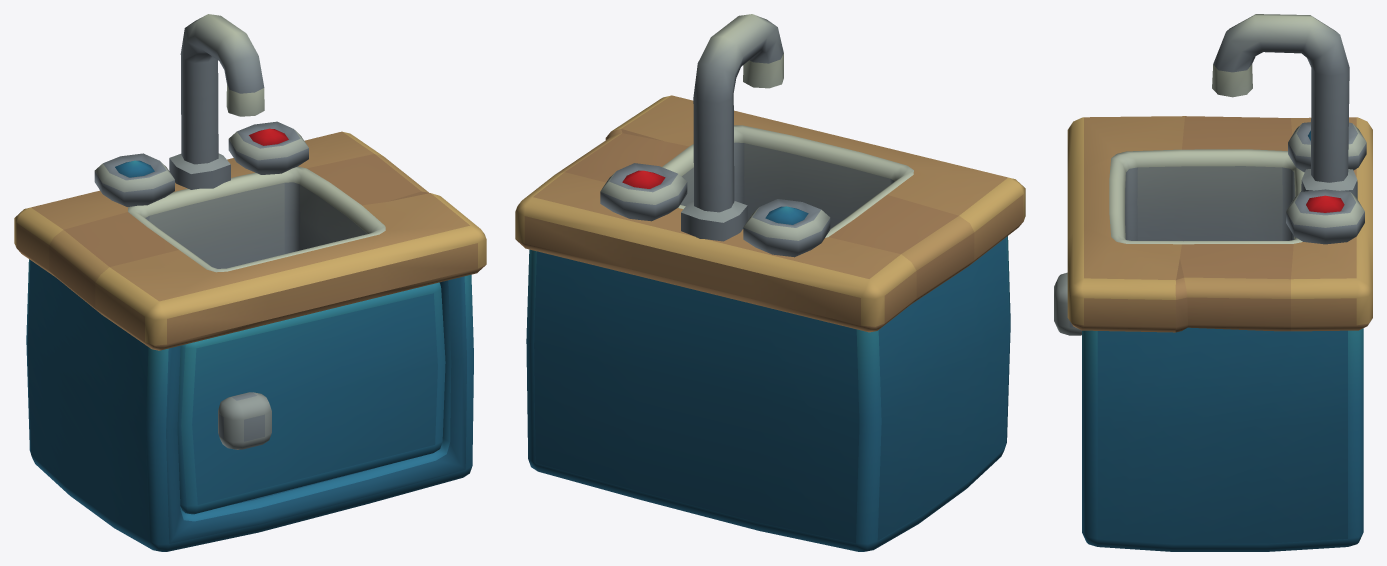
File: kitchen_counter_sink_LOD_setup.fbx
The picture shows the model from 3 angles, left to right: view 1: azimuth 30°, elevation 25°; view 2: azimuth 150°, elevation 25°; view 3: azimuth 270°, elevation 25°; orthographic projection. The views are drawn at different scales.
Visible parts, largest first — view 1: kitchen_counter_sink_LOD0, kitchen_counter_sink_door_LOD0; view 2: kitchen_counter_sink_LOD0; view 3: kitchen_counter_sink_LOD0, kitchen_counter_sink_door_LOD0.
Boxes of the visible parts, x1,y1,x2,y2 form: kitchen_counter_sink_LOD0: [14, 14, 486, 551]; kitchen_counter_sink_door_LOD0: [177, 282, 445, 514]; kitchen_counter_sink_LOD0: [515, 14, 1025, 551]; kitchen_counter_sink_LOD0: [1067, 14, 1372, 551]; kitchen_counter_sink_door_LOD0: [1054, 272, 1081, 335].
Size of what is drawn, in the model's own units: 108 by 130 by 81.34.
